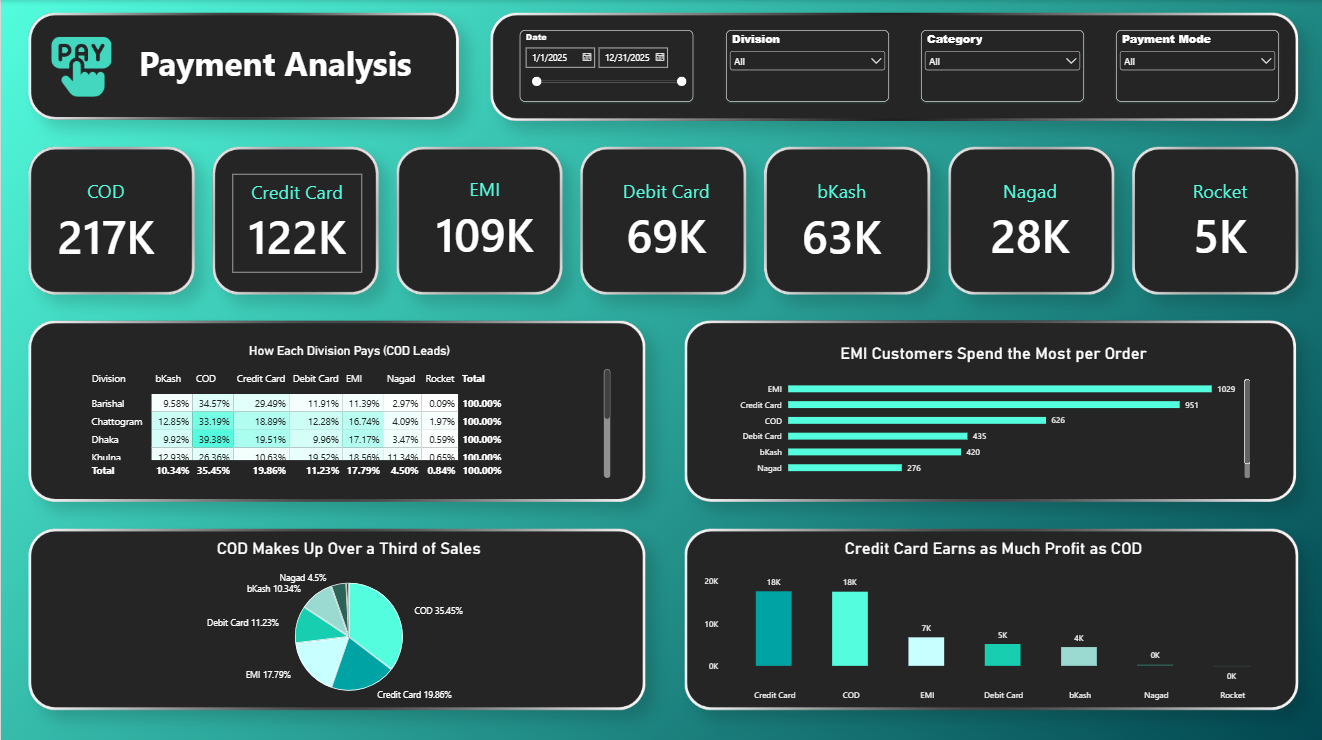

This screenshot's page, from the dashboard's own definition file:
{"tool":"powerbi","page":{"name":"Payment Analysis","canvas":[1920,1080],"ordinal":3},"visuals":[{"type":"slicer","fields":{"Values":["Calendar.Date"]},"box":[751,43.3,251,103.9],"z":0},{"type":"slicer","fields":{"Values":["Product.Category"]},"box":[1331.7,43.3,235.9,103.9],"z":1000},{"type":"slicer","fields":{"Values":["Location.State "]},"box":[1048.9,43.3,235.9,103.9],"z":2000},{"type":"slicer","fields":{"Values":["Sales.PaymentMode"]},"box":[1614.5,43.3,235.9,103.9],"z":3000},{"type":"textbox","box":[153.8,57.9,499.9,248.9],"z":4000},{"type":"cardVisual","fields":{"Data":["Calculation.Bkash Payment"]},"box":[1120.2,240.7,194.9,162.9],"z":5000},{"type":"cardVisual","fields":{"Data":["Calculation.COD"]},"box":[47.6,248.9,210.9,144.2],"z":6000},{"type":"cardVisual","fields":{"Data":["Calculation.EMI"]},"box":[595.1,246.7,210.9,146.8],"z":7000},{"type":"cardVisual","fields":{"Data":["Calculation.Debit Card Payment"]},"box":[857,246.7,211,150],"z":8000},{"type":"cardVisual","fields":{"Data":["Calculation.Credit Card Payment"]},"box":[335.4,251,188.3,142.8],"z":9000},{"type":"cardVisual","fields":{"Data":["Calculation.Nagad"]},"box":[1385.1,246.7,211,150],"z":10000},{"type":"cardVisual","fields":{"Data":["Calculation.Rocket Payment"]},"box":[1659.9,246.7,211,150],"z":11000},{"type":"pivotTable","title":"How Each Division Pays (COD Leads)","fields":{"Columns":["Sales.PaymentMode"],"Rows":["Location.Division"],"Values":["Calculation.Total Sales"]},"box":[110.4,482.6,787.7,225.1],"z":12000},{"type":"clusteredBarChart","title":"EMI Customers Spend the Most per Order","fields":{"Category":["Sales.PaymentMode"],"Y":["Calculation.Average Order Value"]},"box":[1049.6,482.6,774.8,225.1],"z":13000},{"type":"pieChart","title":"COD Makes Up Over a Third of Sales","fields":{"Category":["Sales.PaymentMode"],"Y":["Calculation.Total Sales"]},"box":[47.6,766.1,913.3,270.5],"z":14000},{"type":"clusteredColumnChart","title":"Credit Card Earns as Much Profit as COD","fields":{"Category":["Sales.PaymentMode"],"Y":["Calculation.Total Profit"]},"box":[1002.6,765.5,868.6,269.6],"z":15000}]}

Visuals, with their boxes in screenshot pixels (x1, y1, x2, y2), scaled from the page's 1920x1080 canvas onto the 1322x740 screenshot:
slicer - Calendar.Date: select_region(517, 30, 690, 101)
slicer - Product.Category: select_region(917, 30, 1079, 101)
slicer - Location.State : select_region(722, 30, 885, 101)
slicer - Sales.PaymentMode: select_region(1112, 30, 1274, 101)
textbox: select_region(106, 40, 450, 210)
cardVisual - Calculation.Bkash Payment: select_region(771, 165, 906, 277)
cardVisual - Calculation.COD: select_region(33, 171, 178, 269)
cardVisual - Calculation.EMI: select_region(410, 169, 555, 270)
cardVisual - Calculation.Debit Card Payment: select_region(590, 169, 735, 272)
cardVisual - Calculation.Credit Card Payment: select_region(231, 172, 361, 270)
cardVisual - Calculation.Nagad: select_region(954, 169, 1099, 272)
cardVisual - Calculation.Rocket Payment: select_region(1143, 169, 1288, 272)
"How Each Division Pays (COD Leads)" pivotTable: select_region(76, 331, 618, 485)
"EMI Customers Spend the Most per Order" clusteredBarChart: select_region(723, 331, 1256, 485)
"COD Makes Up Over a Third of Sales" pieChart: select_region(33, 525, 662, 710)
"Credit Card Earns as Much Profit as COD" clusteredColumnChart: select_region(690, 525, 1288, 709)
